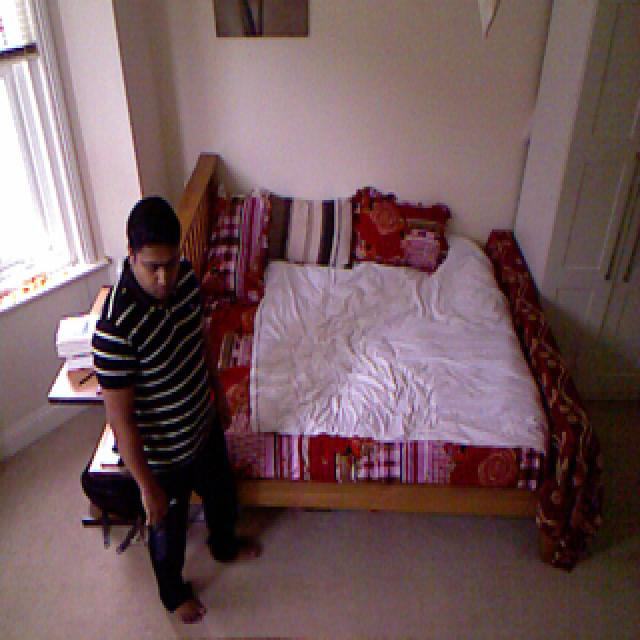standing: (92, 192, 268, 638)
